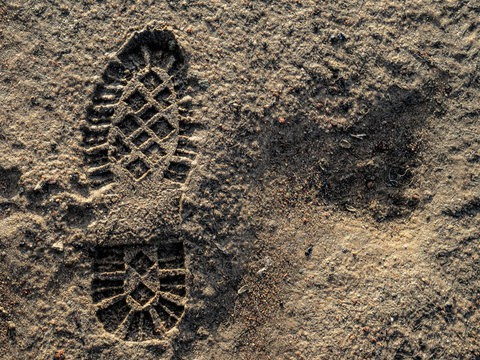human_foot_print: (68, 10, 209, 347)
